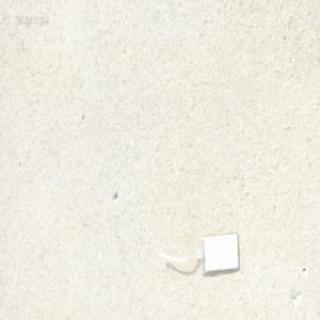LuggageTagtrack_idkeyframe: (157, 229, 239, 274)
